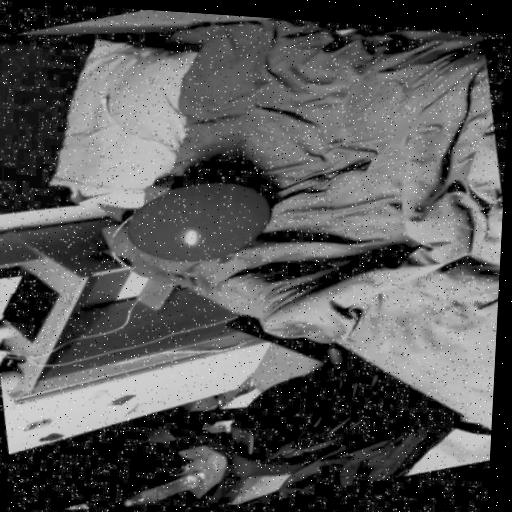balloon: (103, 158, 284, 300)
